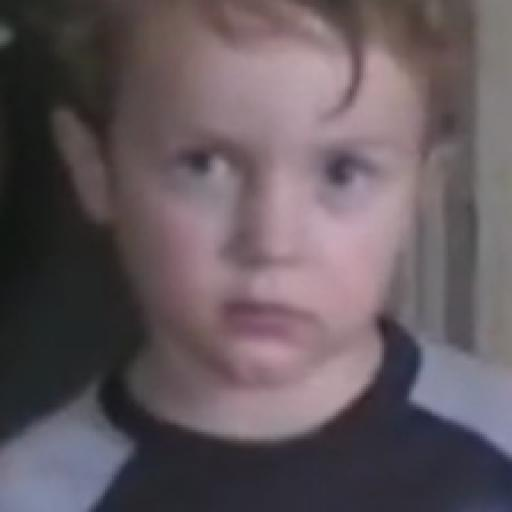Autism: (68, 22, 512, 449)
